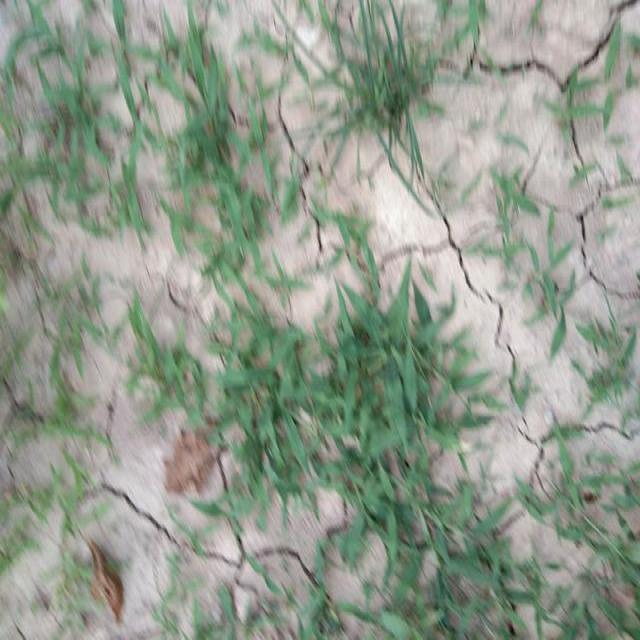weed: (221, 308, 468, 558), (154, 34, 251, 245), (344, 27, 434, 173)
